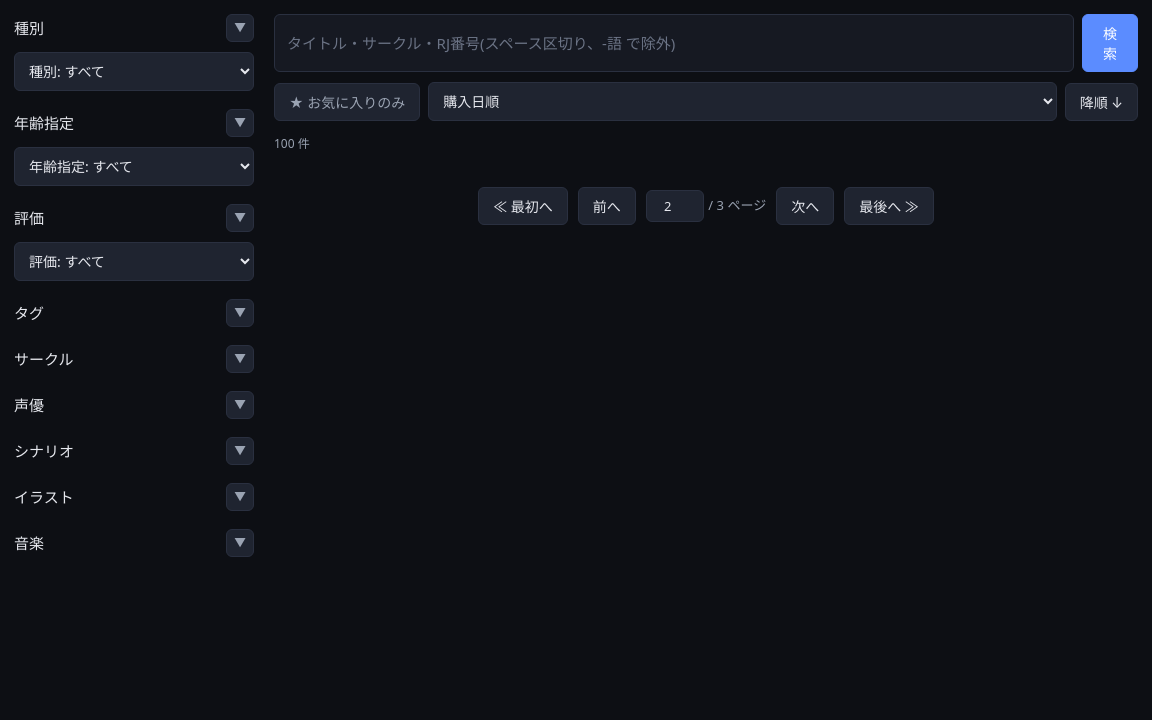
Test: ページャーの数値入力化 (#35) › 数値入力欄で 0 以下を入れて blur すると 1 にクランプされる
Replace the text in the number field named "ページ番号" with "0": (675, 206) [646,190,704,222]
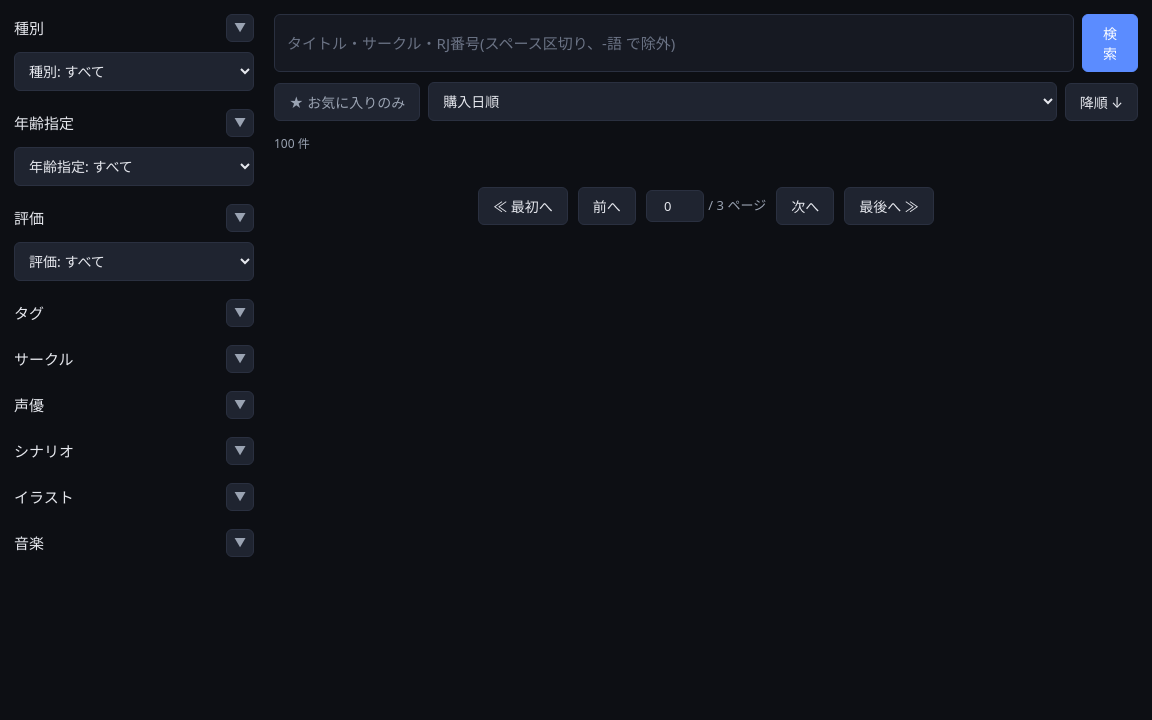
Leave the number field named "ページ番号", box [646,190,704,222]
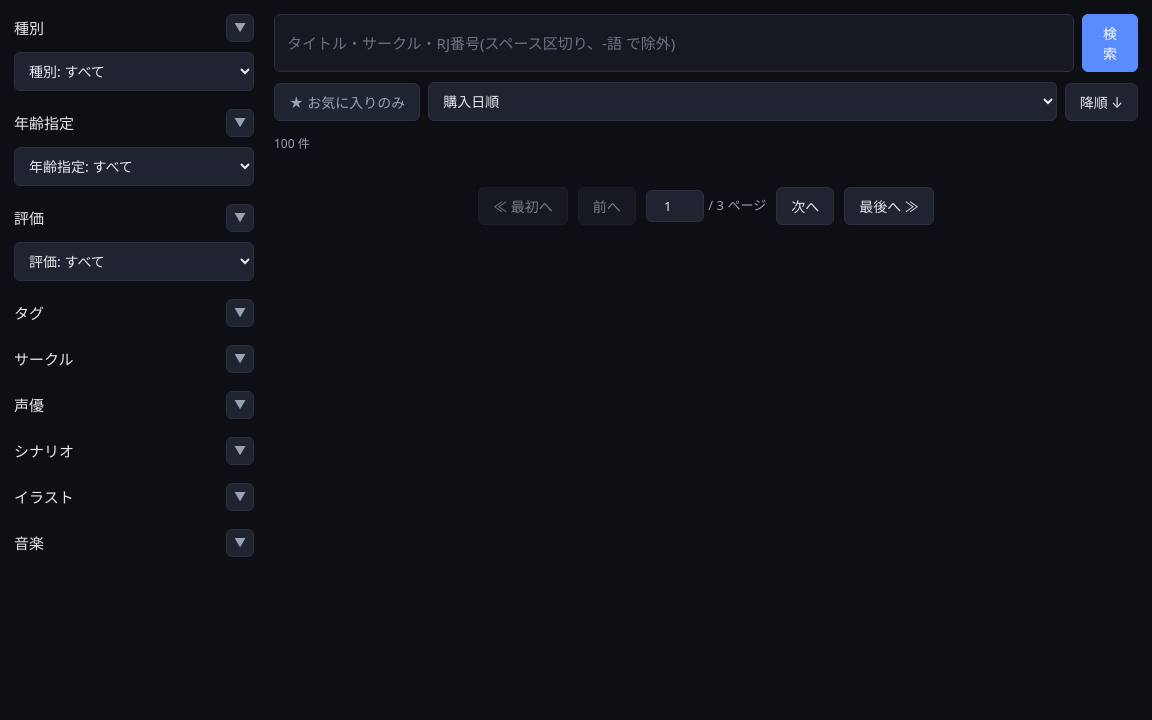
expect the number field named "ページ番号" holds "1": met, box [646,190,704,222]
